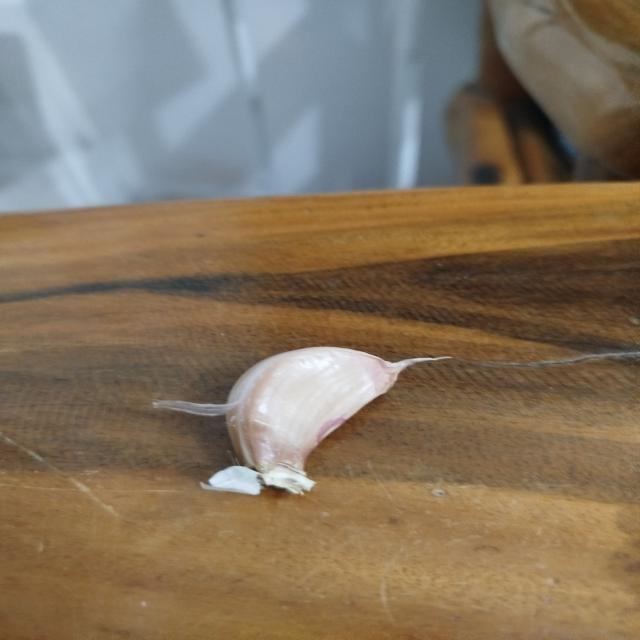garlic: (151, 344, 453, 496)
